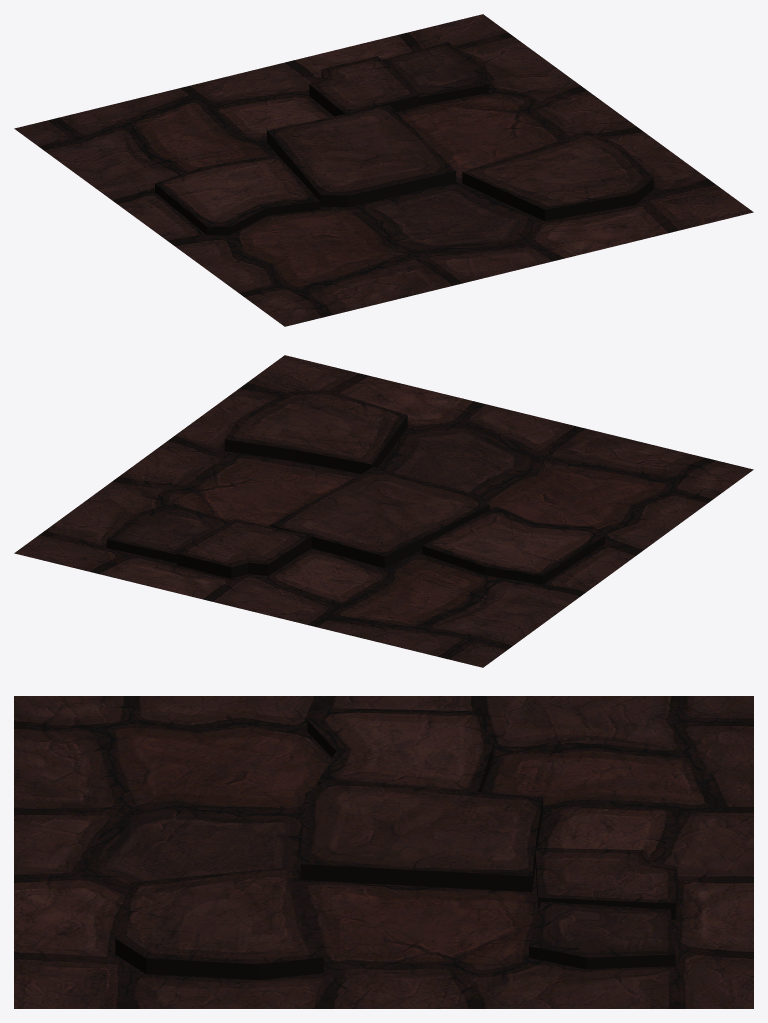
The model's file is lava_floor_blank_06.fbx.
3 views of the same model, one above another, from view 1: azimuth 30°, elevation 25°; view 2: azimuth 150°, elevation 25°; view 3: azimuth 270°, elevation 25° (orthographic). The views are drawn at different scales.
Visible parts, largest first — view 1: obj0.019; view 2: obj0.019; view 3: obj0.019.
Part boxes in pixels (<box>): obj0.019: <box>14,14,753,326</box>; obj0.019: <box>14,355,753,667</box>; obj0.019: <box>14,696,753,1008</box>.
Size of the model in its own units: 4 by 0.095 by 4.
